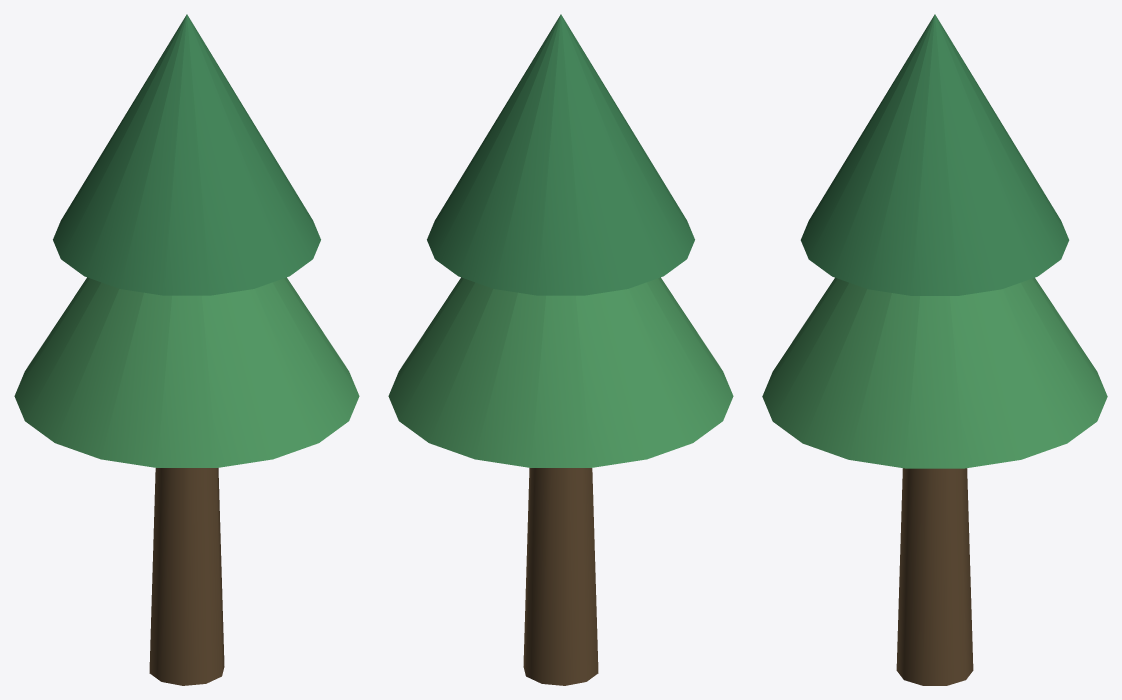
File: tree_tall.glb
3 renders of one model, left to right at view 1: azimuth 30°, elevation 25°; view 2: azimuth 150°, elevation 25°; view 3: azimuth 270°, elevation 25°, orthographic.
Visible parts, largest first — view 1: leaf_low, leaf_high, trunk; view 2: leaf_low, leaf_high, trunk; view 3: leaf_low, leaf_high, trunk.
Boxes of the visible parts, bbox=[...] form: leaf_low: bbox=[14, 277, 359, 467]; leaf_high: bbox=[53, 14, 320, 295]; trunk: bbox=[149, 468, 224, 685]; leaf_low: bbox=[388, 277, 733, 467]; leaf_high: bbox=[427, 14, 694, 295]; trunk: bbox=[523, 468, 598, 685]; leaf_low: bbox=[762, 277, 1107, 468]; leaf_high: bbox=[800, 14, 1069, 295]; trunk: bbox=[896, 468, 973, 685].
Bounding box in the file's own units: 0.7091 × 1.51 × 0.72.
